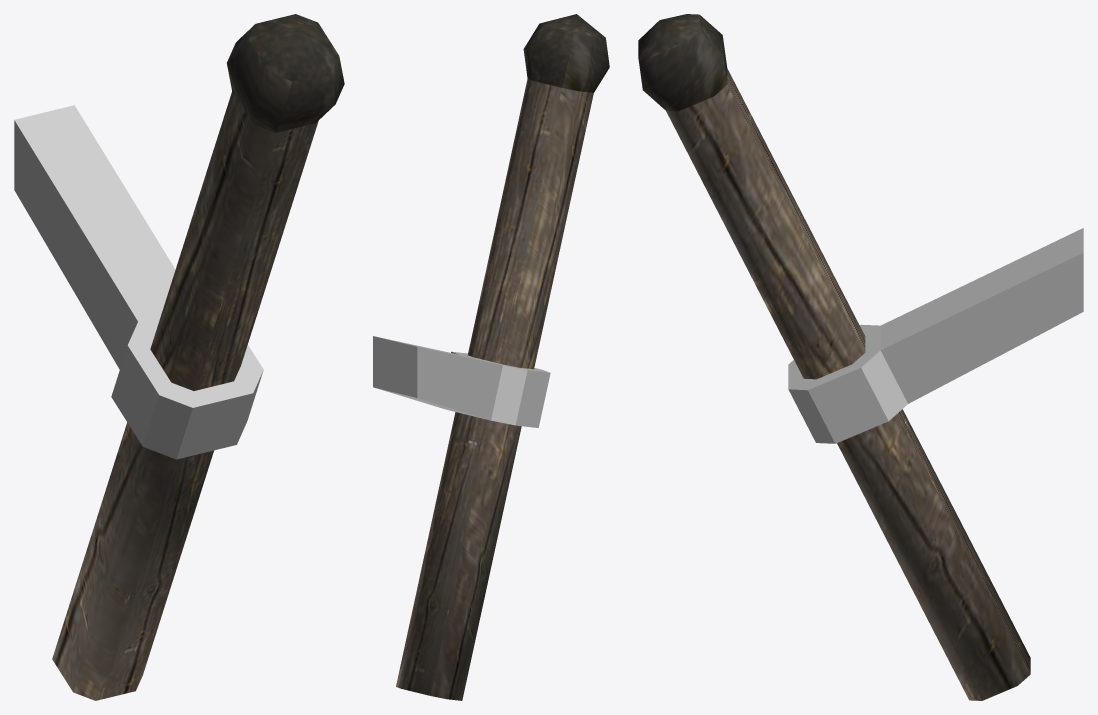
The model's file is DF_WallTorch.fbx.
3 renders of one model, left to right at view 1: azimuth 30°, elevation 25°; view 2: azimuth 150°, elevation 25°; view 3: azimuth 270°, elevation 25°, orthographic. The views are drawn at different scales.
Visible parts, largest first — view 1: DF_WallTorch; view 2: DF_WallTorch; view 3: DF_WallTorch.
Part boxes in pixels (x1=…): DF_WallTorch: x1=14, y1=14, x2=344, y2=700; DF_WallTorch: x1=373, y1=14, x2=609, y2=700; DF_WallTorch: x1=638, y1=14, x2=1083, y2=700.
Bounding box in the file's own units: 0.1559 × 1.14 × 0.6825.
